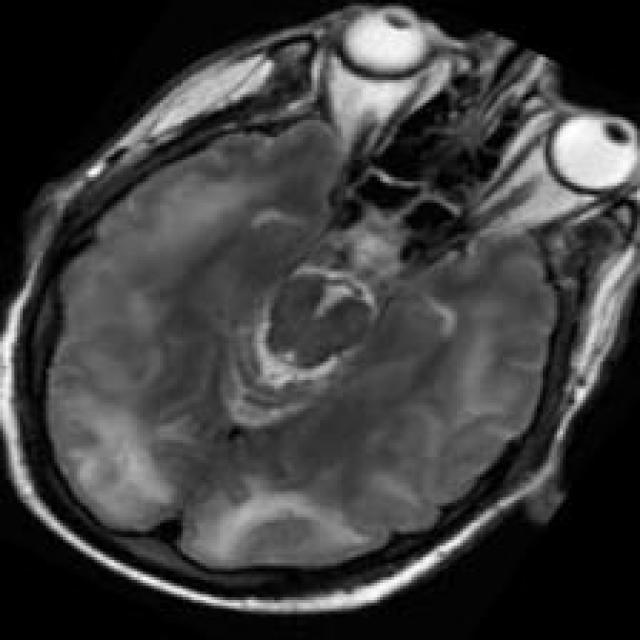no_tumor: (5, 7, 640, 633)
